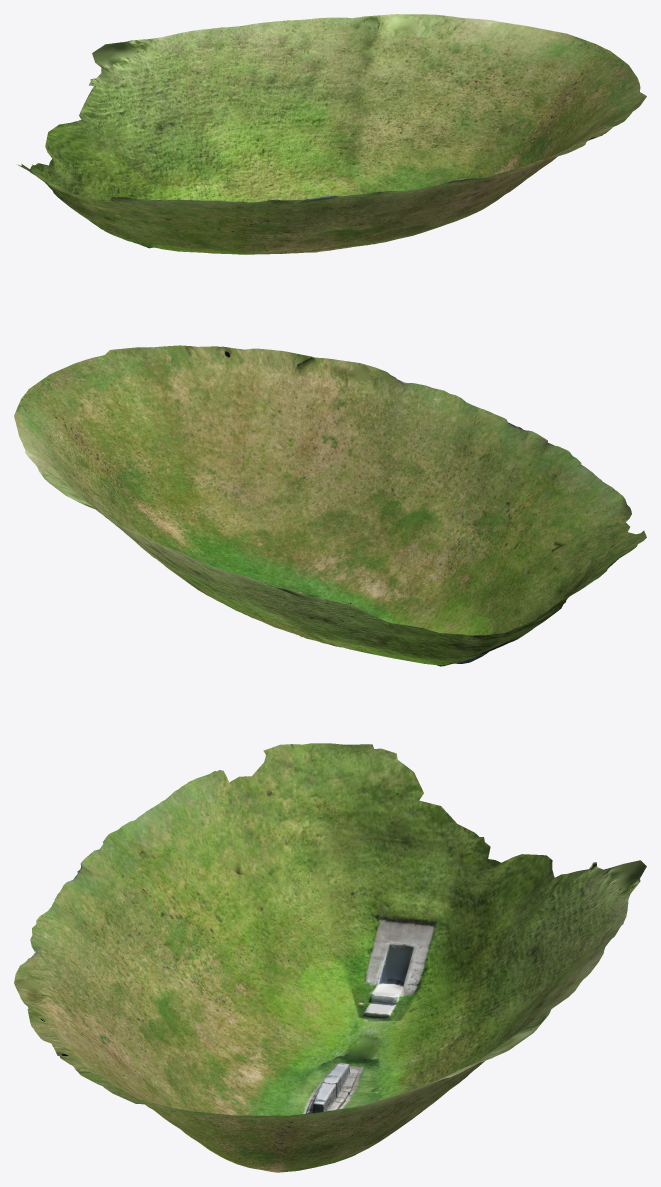
The model's file is preview.glb.
3 views of the same model, one above another, from view 1: azimuth 30°, elevation 25°; view 2: azimuth 150°, elevation 25°; view 3: azimuth 270°, elevation 25° (orthographic). The views are drawn at different scales.
Visible parts, largest first — view 1: Irish Sky Garden Low_Irish Sky Low Material_0; view 2: Irish Sky Garden Low_Irish Sky Low Material_0; view 3: Irish Sky Garden Low_Irish Sky Low Material_0.
Part boxes in pixels (x1,y1,x2,y2): Irish Sky Garden Low_Irish Sky Low Material_0: [17, 14, 646, 254]; Irish Sky Garden Low_Irish Sky Low Material_0: [14, 345, 646, 666]; Irish Sky Garden Low_Irish Sky Low Material_0: [14, 743, 646, 1172].
Bounding box in the file's own units: 143 × 42.25 × 103.
1 material, 1 textured.
